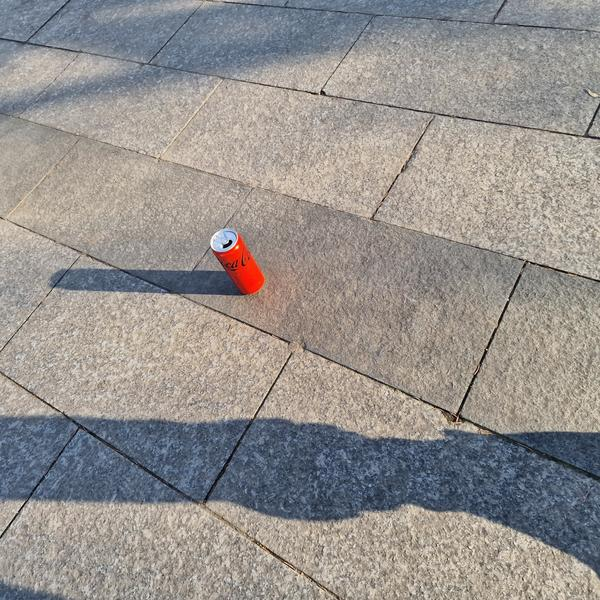can: (204, 222, 273, 301)
